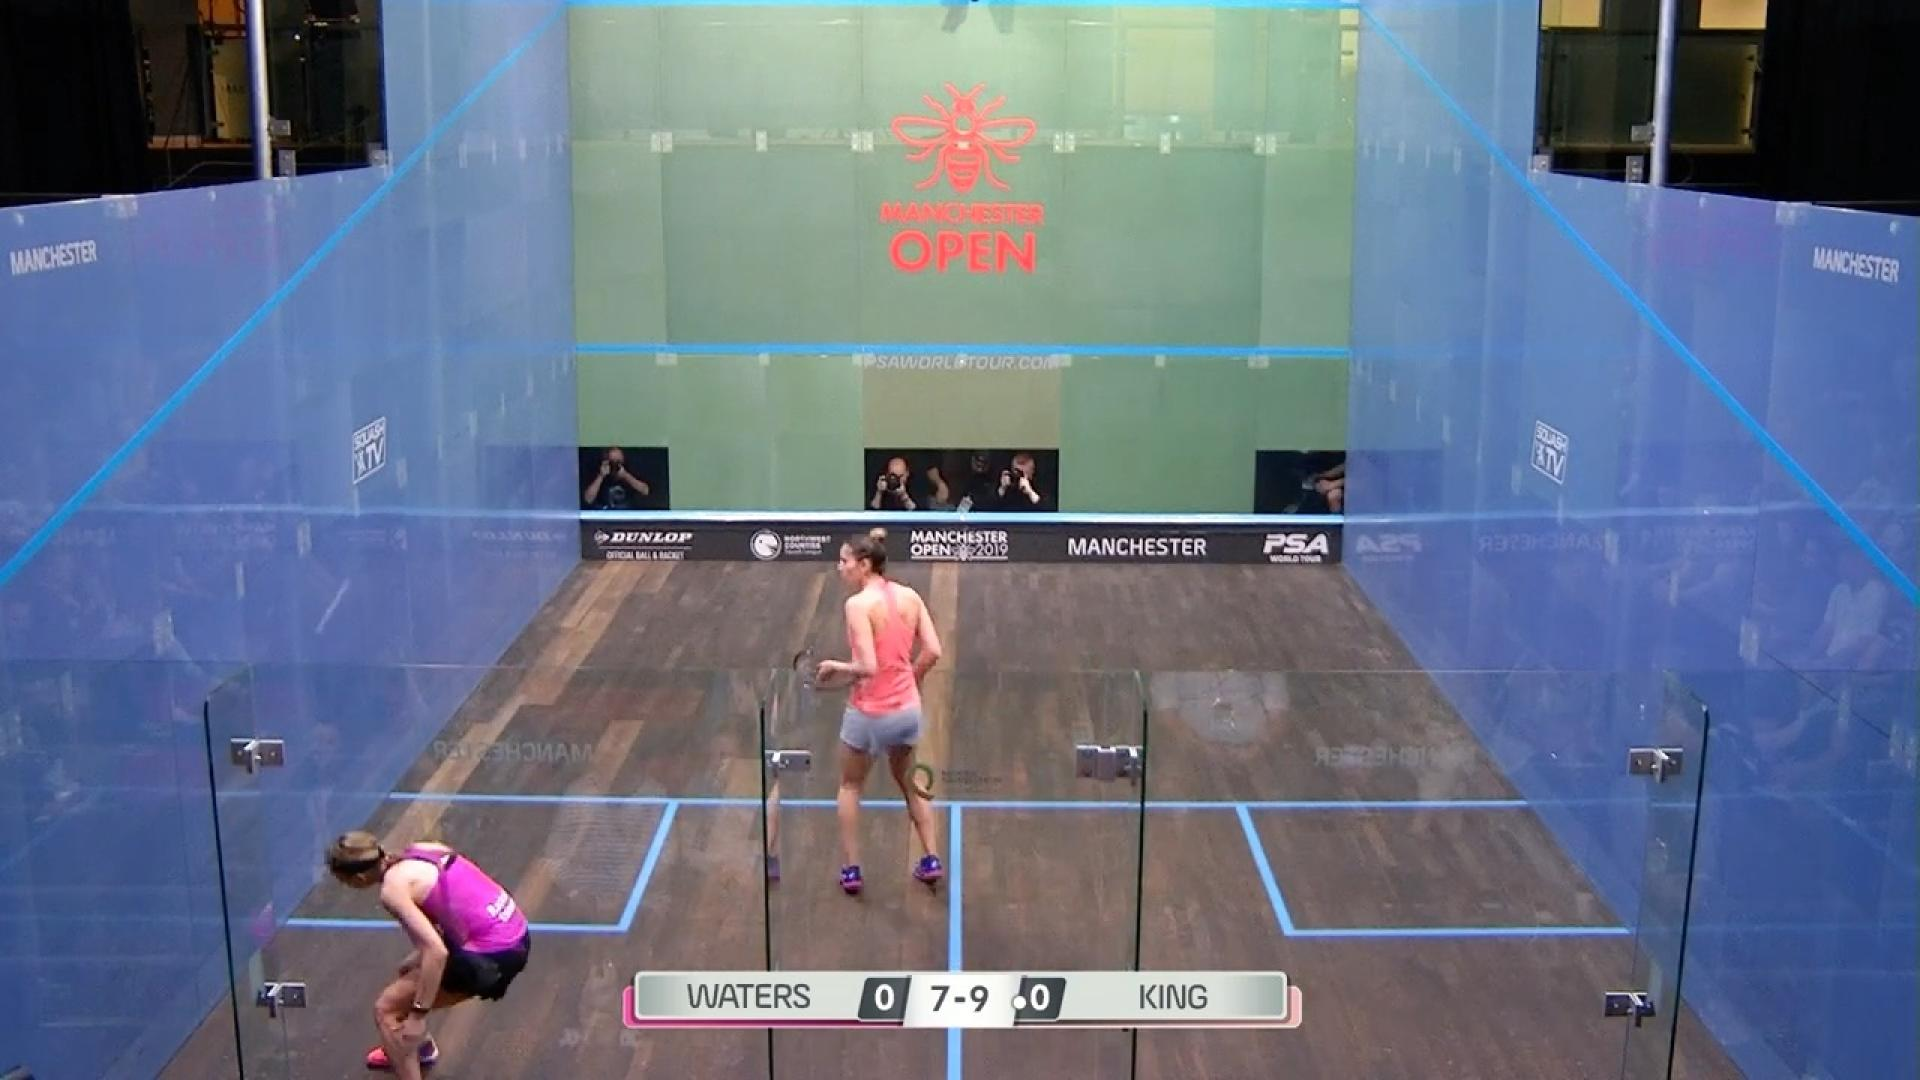Squash-Ball: (302, 560, 375, 655)
